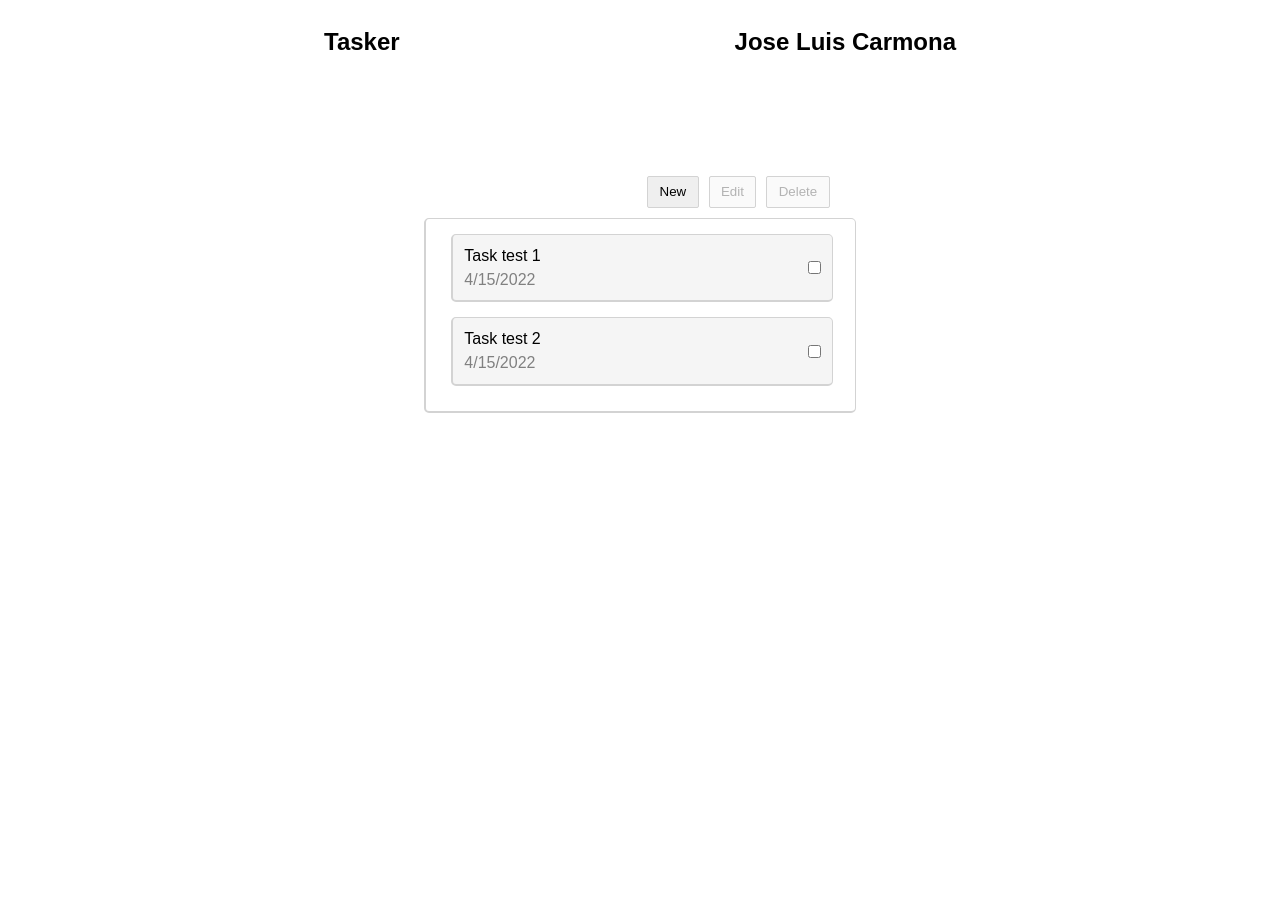
Test case: App component › When a task is selected and the button 'Edit' is clicked, a task detail modal window is showed and the task data is showed
# Task is selected
Click the checkbox in the row of "Task test 1": {"x": 815, "y": 268} [808, 261, 821, 274]
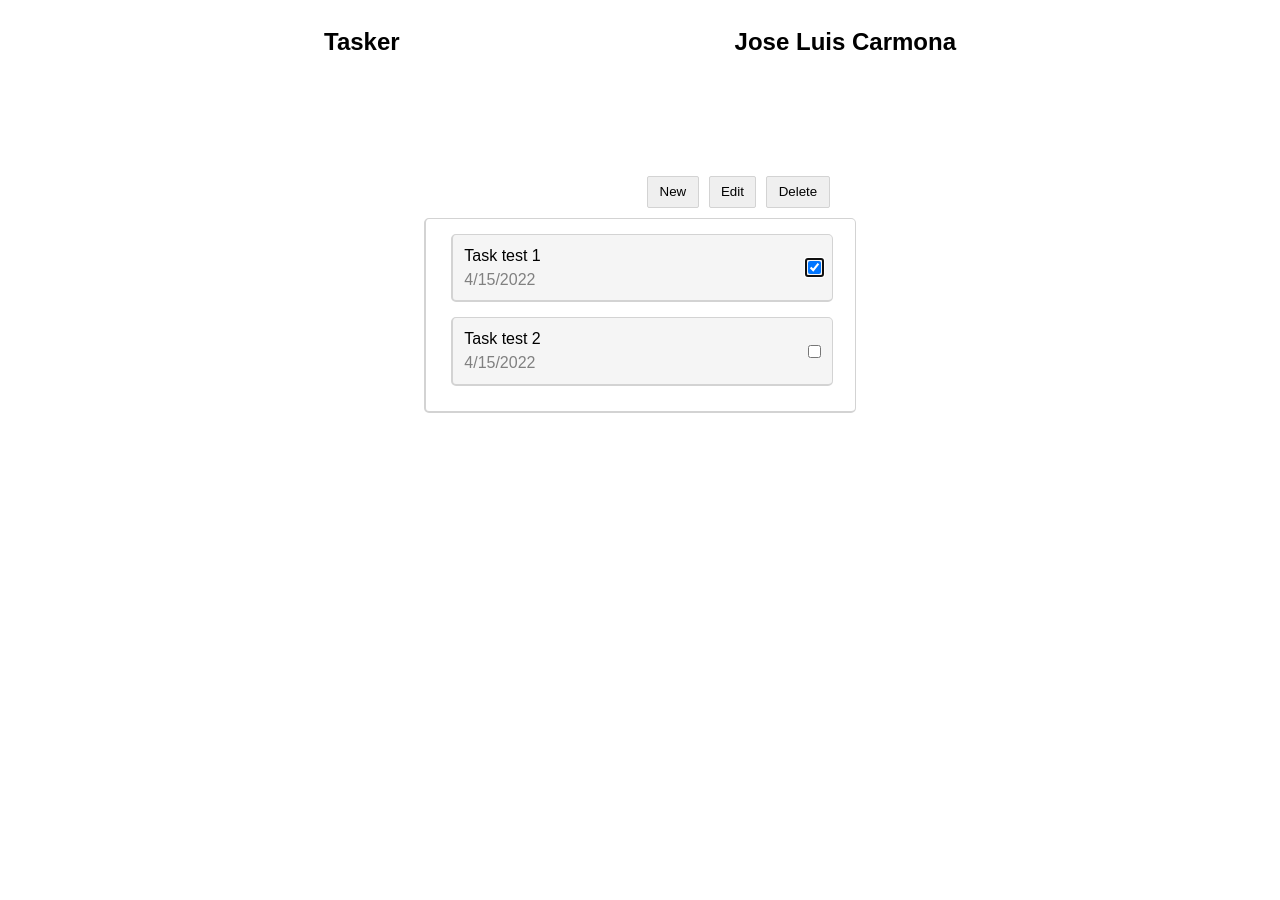
# Button edit is clicked
Click the button "Edit": {"x": 732, "y": 192} [709, 176, 756, 208]
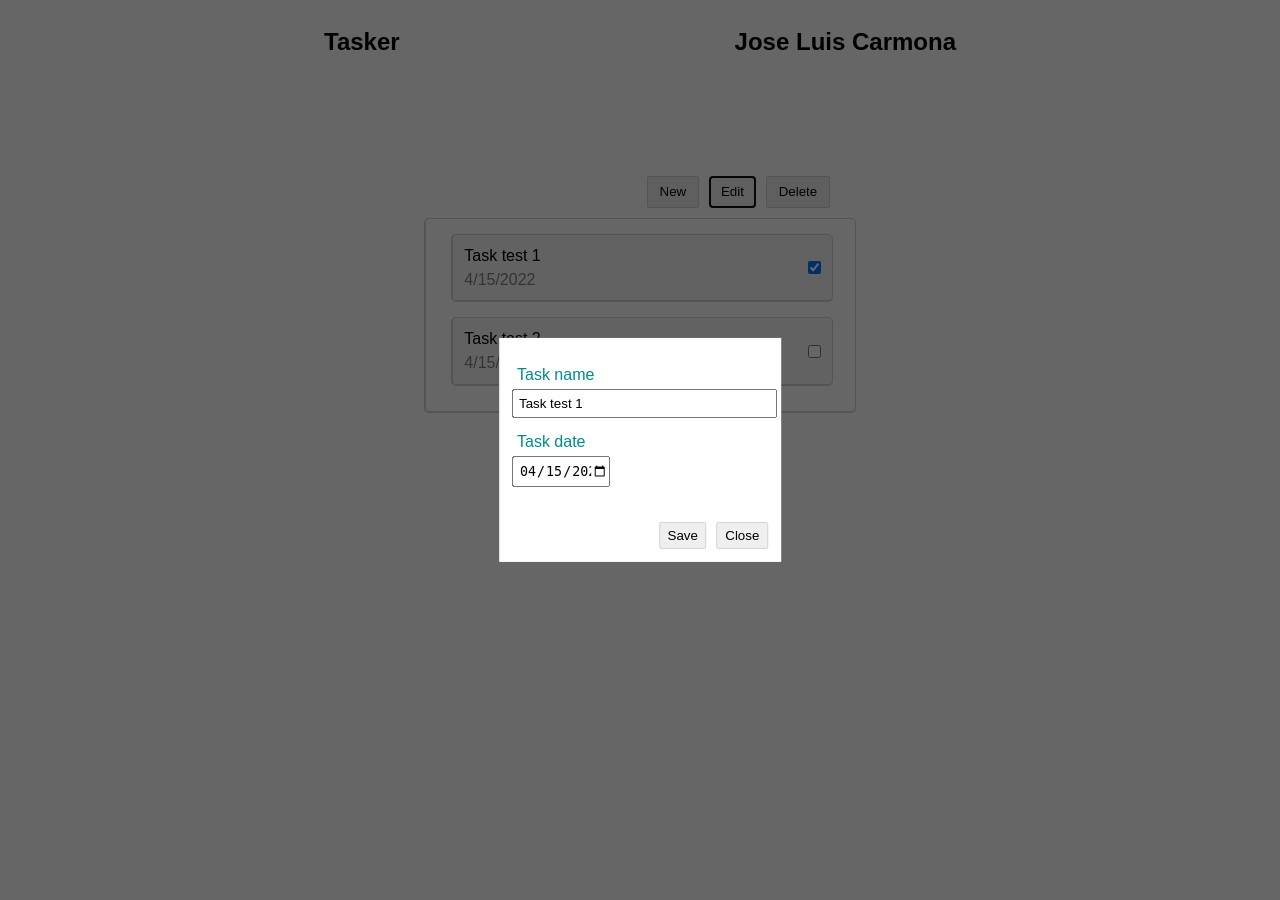
Expected: the element with class "modal" is shown
Expected: the field holds "Task test 1", [512, 389, 777, 418]
